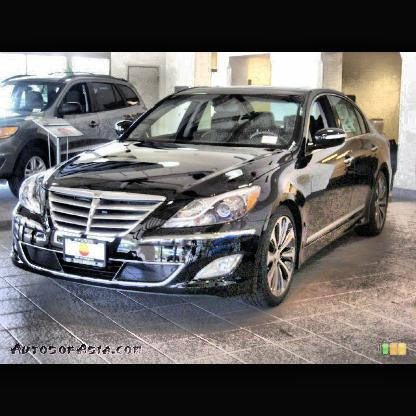Hyundai Genesis Sedan 2012: (13, 88, 392, 308)
